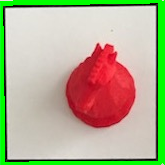Red Knight: (60, 38, 140, 132)
